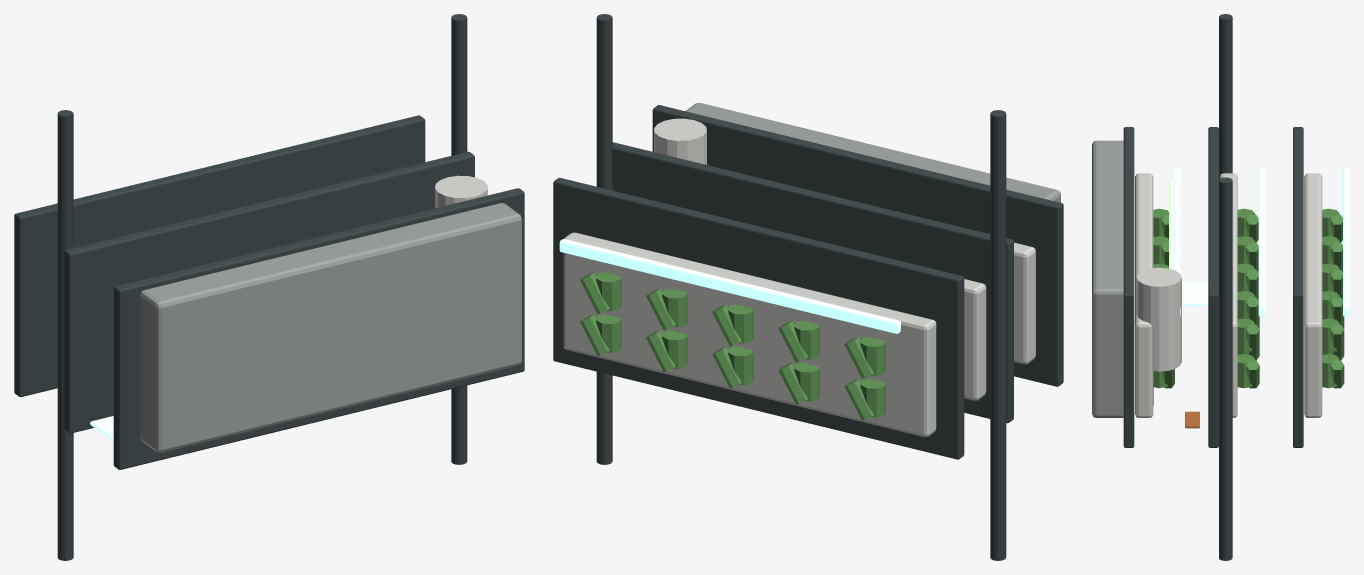
The model's file is grow_tray.glb.
The picture shows the model from 3 angles, left to right: view 1: azimuth 30°, elevation 25°; view 2: azimuth 150°, elevation 25°; view 3: azimuth 270°, elevation 25°; orthographic projection. The views are drawn at different scales.
Parts seen in each view (by area): view 1: Reservoir, TraySupport.001, TraySupport.002, TraySupport, RackPost, RackPost.001, RackPost.003, RackPost.002, NutrientFilter; view 2: TraySupport.002, RemovableGrowTray.002, TraySupport, TraySupport.001, Light_Grow.002, RackPost, Reservoir, RackPost.001, RackPost.003, RemovableGrowTray.001, RemovableGrowTray, NutrientFilter (+11 smaller); view 3: Reservoir, RemovableGrowTray.002, TraySupport, NutrientFilter, RemovableGrowTray, TraySupport.001, TraySupport.002, RackPost.002, RackPost.003, RackPost.001, RemovableGrowTray.001, Light_Grow.001 (+18 smaller).
Part boxes in pixels (bbox=[...]): Reservoir: bbox=[140, 203, 521, 452]; TraySupport.001: bbox=[64, 151, 474, 433]; TraySupport.002: bbox=[14, 115, 425, 397]; TraySupport: bbox=[113, 188, 524, 469]; RackPost: bbox=[57, 268, 73, 560]; RackPost.001: bbox=[57, 110, 73, 405]; RackPost.003: bbox=[451, 14, 467, 155]; RackPost.002: bbox=[451, 385, 467, 464]; NutrientFilter: bbox=[435, 175, 487, 208]; TraySupport.002: bbox=[553, 177, 964, 459]; RemovableGrowTray.002: bbox=[563, 232, 936, 436]; TraySupport: bbox=[652, 105, 1063, 386]; TraySupport.001: bbox=[612, 142, 1013, 423]; Light_Grow.002: bbox=[559, 239, 900, 333]; RackPost: bbox=[990, 268, 1006, 560]; Reservoir: bbox=[685, 103, 1060, 202]; RackPost.001: bbox=[990, 110, 1006, 406]; RackPost.003: bbox=[596, 14, 612, 188]; RemovableGrowTray.001: bbox=[964, 279, 986, 400]; RemovableGrowTray: bbox=[1014, 242, 1035, 364]; NutrientFilter: bbox=[654, 118, 706, 164]; Reservoir: bbox=[1092, 140, 1123, 417]; RemovableGrowTray.002: bbox=[1304, 173, 1322, 417]; TraySupport: bbox=[1123, 127, 1134, 447]; NutrientFilter: bbox=[1136, 267, 1181, 371]; RemovableGrowTray: bbox=[1135, 173, 1153, 417]; TraySupport.001: bbox=[1208, 127, 1218, 447]; TraySupport.002: bbox=[1293, 127, 1303, 447]; RackPost.002: bbox=[1219, 312, 1232, 560]; RackPost.003: bbox=[1219, 177, 1232, 429]; RackPost.001: bbox=[1219, 14, 1232, 174]; RemovableGrowTray.001: bbox=[1219, 173, 1237, 417]; Light_Grow.001: bbox=[1258, 167, 1265, 316].
Bounding box in the file's own units: 2.65 × 2.76 × 1.71.
